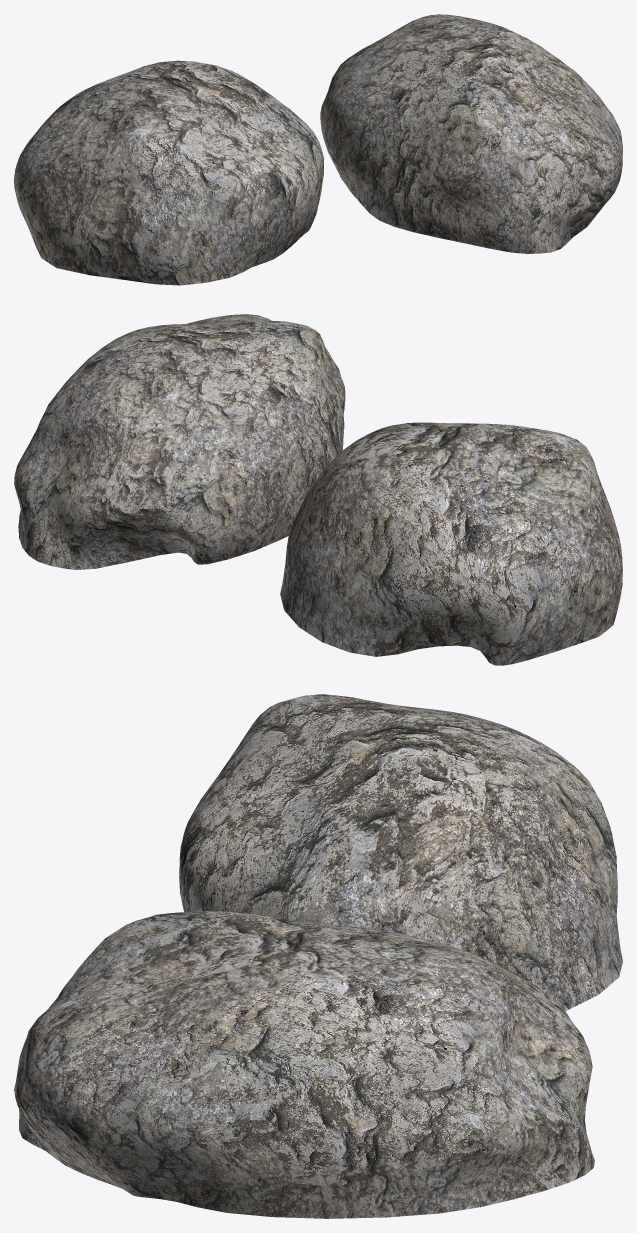
Rendered from Boulders.FBX.
The picture shows the model from 3 angles, top to bottom: view 1: azimuth 30°, elevation 25°; view 2: azimuth 150°, elevation 25°; view 3: azimuth 270°, elevation 25°; orthographic projection. The views are drawn at different scales.
Visible parts, largest first — view 1: Boulder_02, Boulder_01; view 2: Boulder_02, Boulder_01; view 3: Boulder_01, Boulder_02.
Part boxes in pixels (x1,y1,x2,y2): Boulder_02: [14, 60, 324, 285]; Boulder_01: [320, 14, 622, 253]; Boulder_02: [280, 422, 622, 665]; Boulder_01: [14, 314, 345, 569]; Boulder_01: [14, 910, 594, 1218]; Boulder_02: [179, 694, 622, 1010].
Size of the model in its own units: 766 by 206 by 514.
2 materials, 2 textured.
